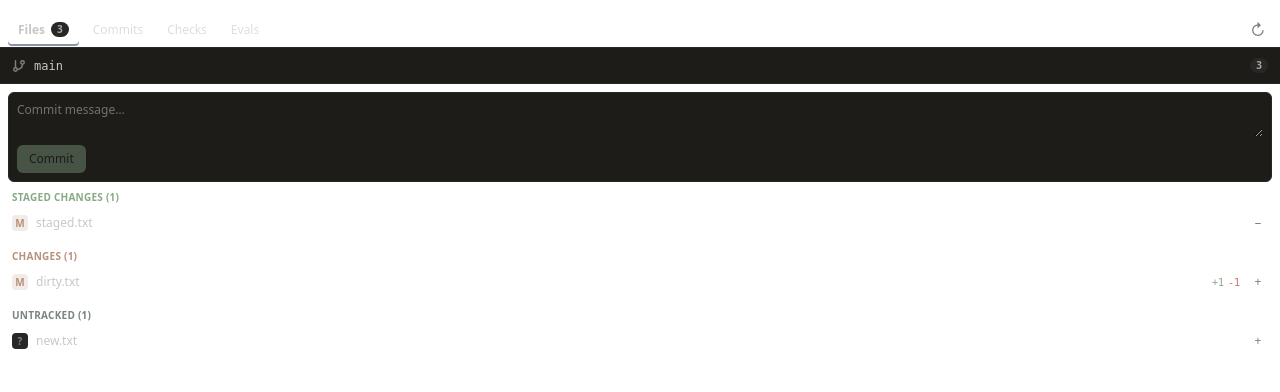
Test: SidebarDiffPanel commit box › shows the server error text when the commit fails
This screenshot has width=1280, height=392.
Type "stale attempt" into the text box with test id "sidebar-commit-message" at (640, 119), box [17,101,1263,137]
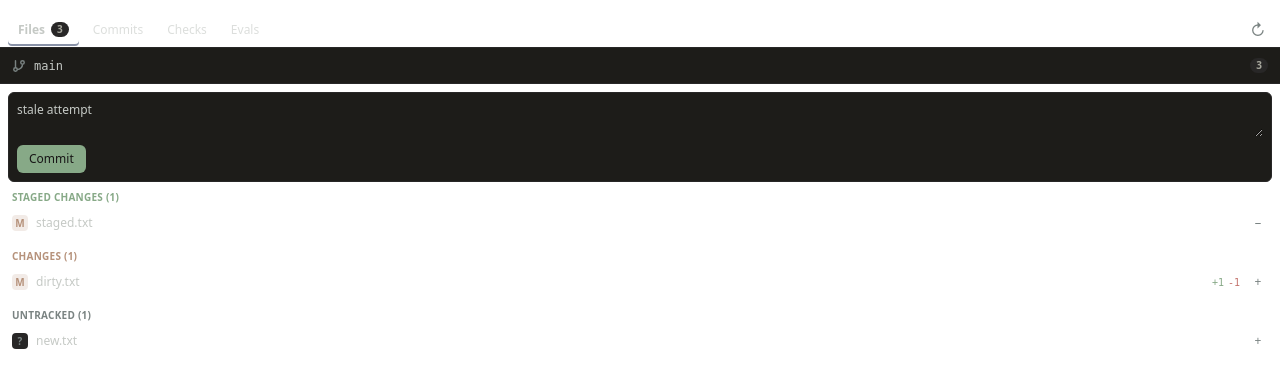
Click the button with test id "sidebar-commit-button" at (51, 159), box [17,145,86,173]
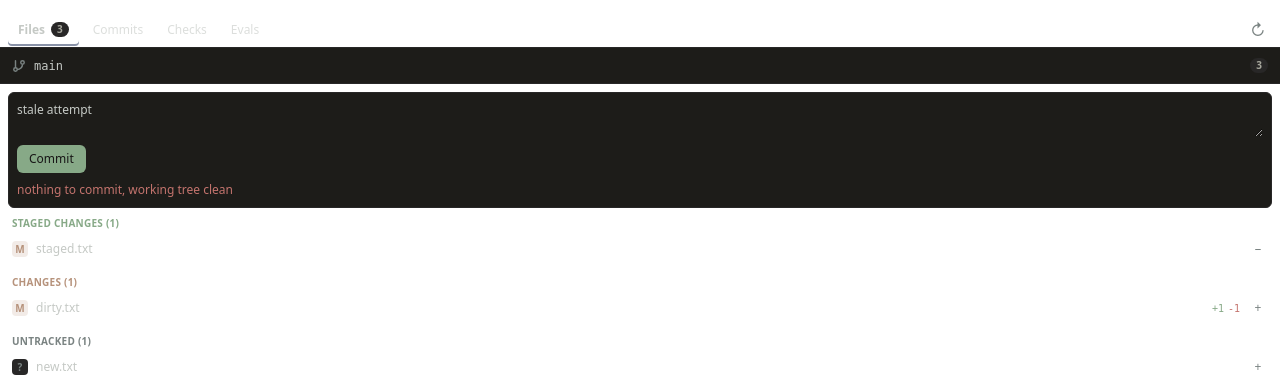
Expected: the text with test id "sidebar-commit-error" reads "nothing to commit, working tree clean", [17,181,233,198]
